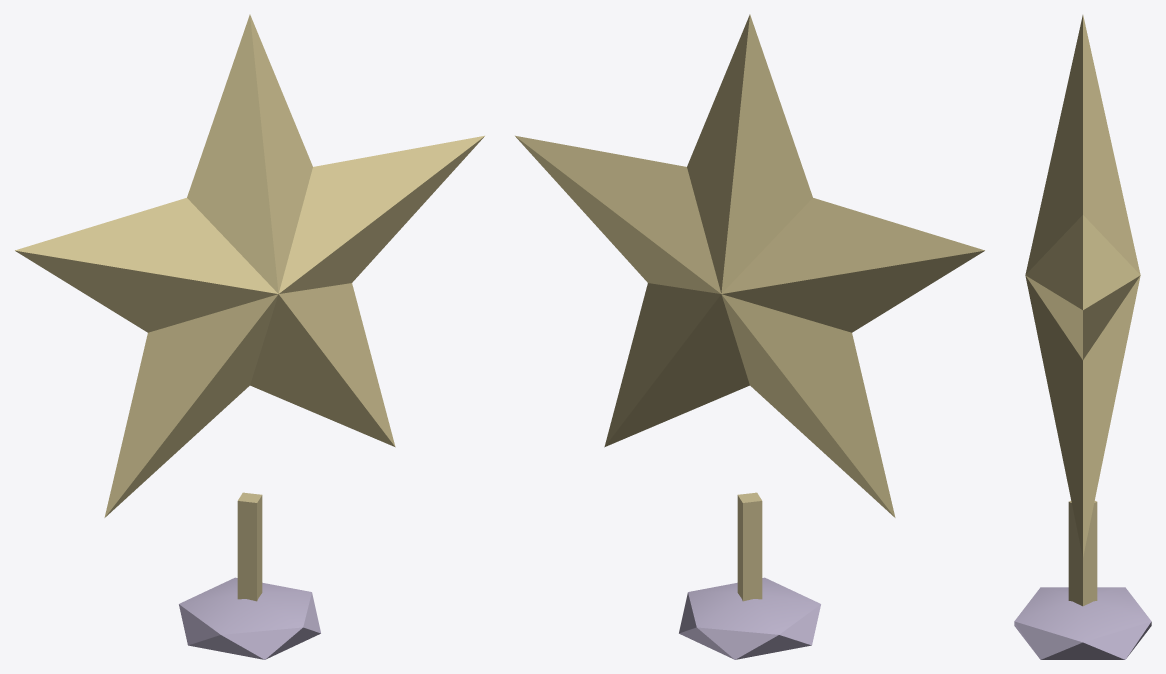
File: prop_star.glb
The picture shows the model from 3 angles, left to right: view 1: azimuth 30°, elevation 25°; view 2: azimuth 150°, elevation 25°; view 3: azimuth 270°, elevation 25°; orthographic projection.
Visible parts, largest first — view 1: prop_star; view 2: prop_star; view 3: prop_star.
Part boxes in pixels (x1,y1,x2,y2): prop_star: (15, 14, 484, 659); prop_star: (515, 14, 984, 659); prop_star: (1014, 15, 1151, 659).
Size of the model in its own units: 0.5706 by 0.73 by 0.1429.
